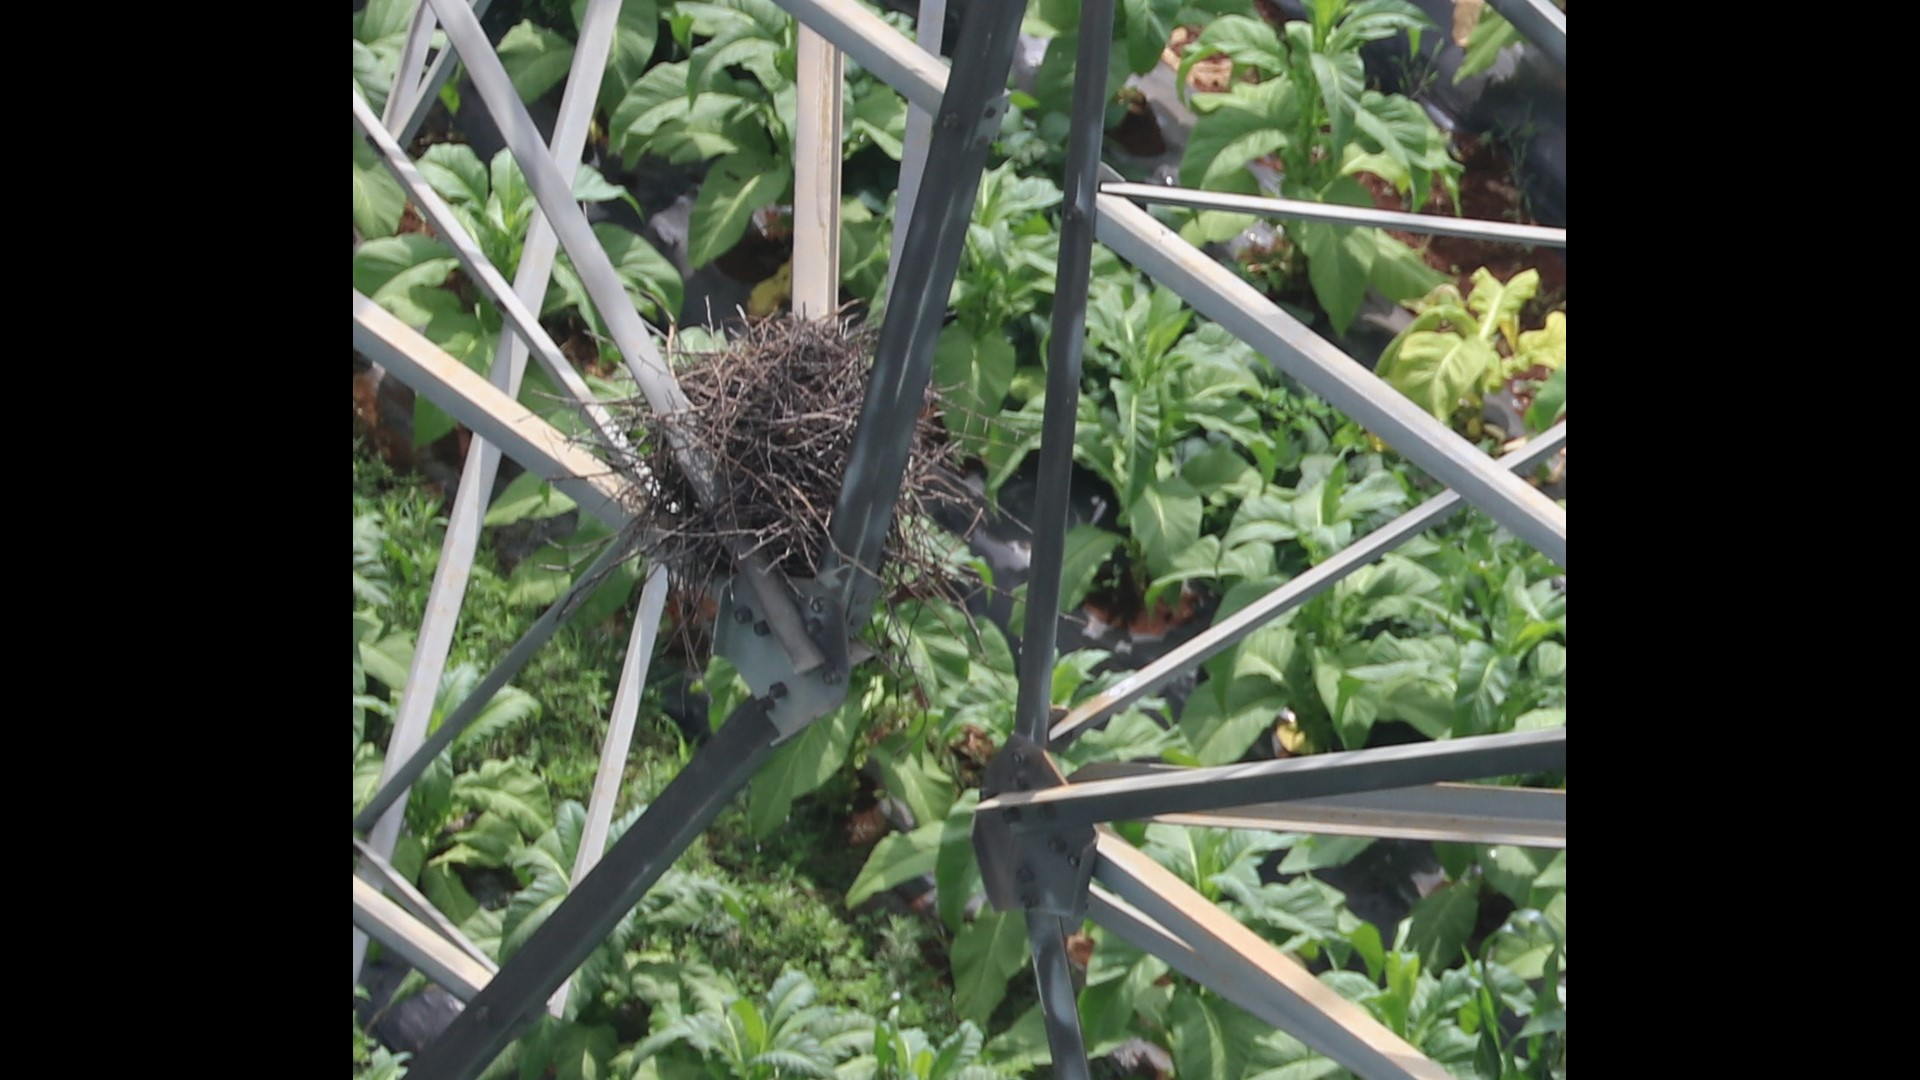niaowo: (605, 303, 978, 618)
